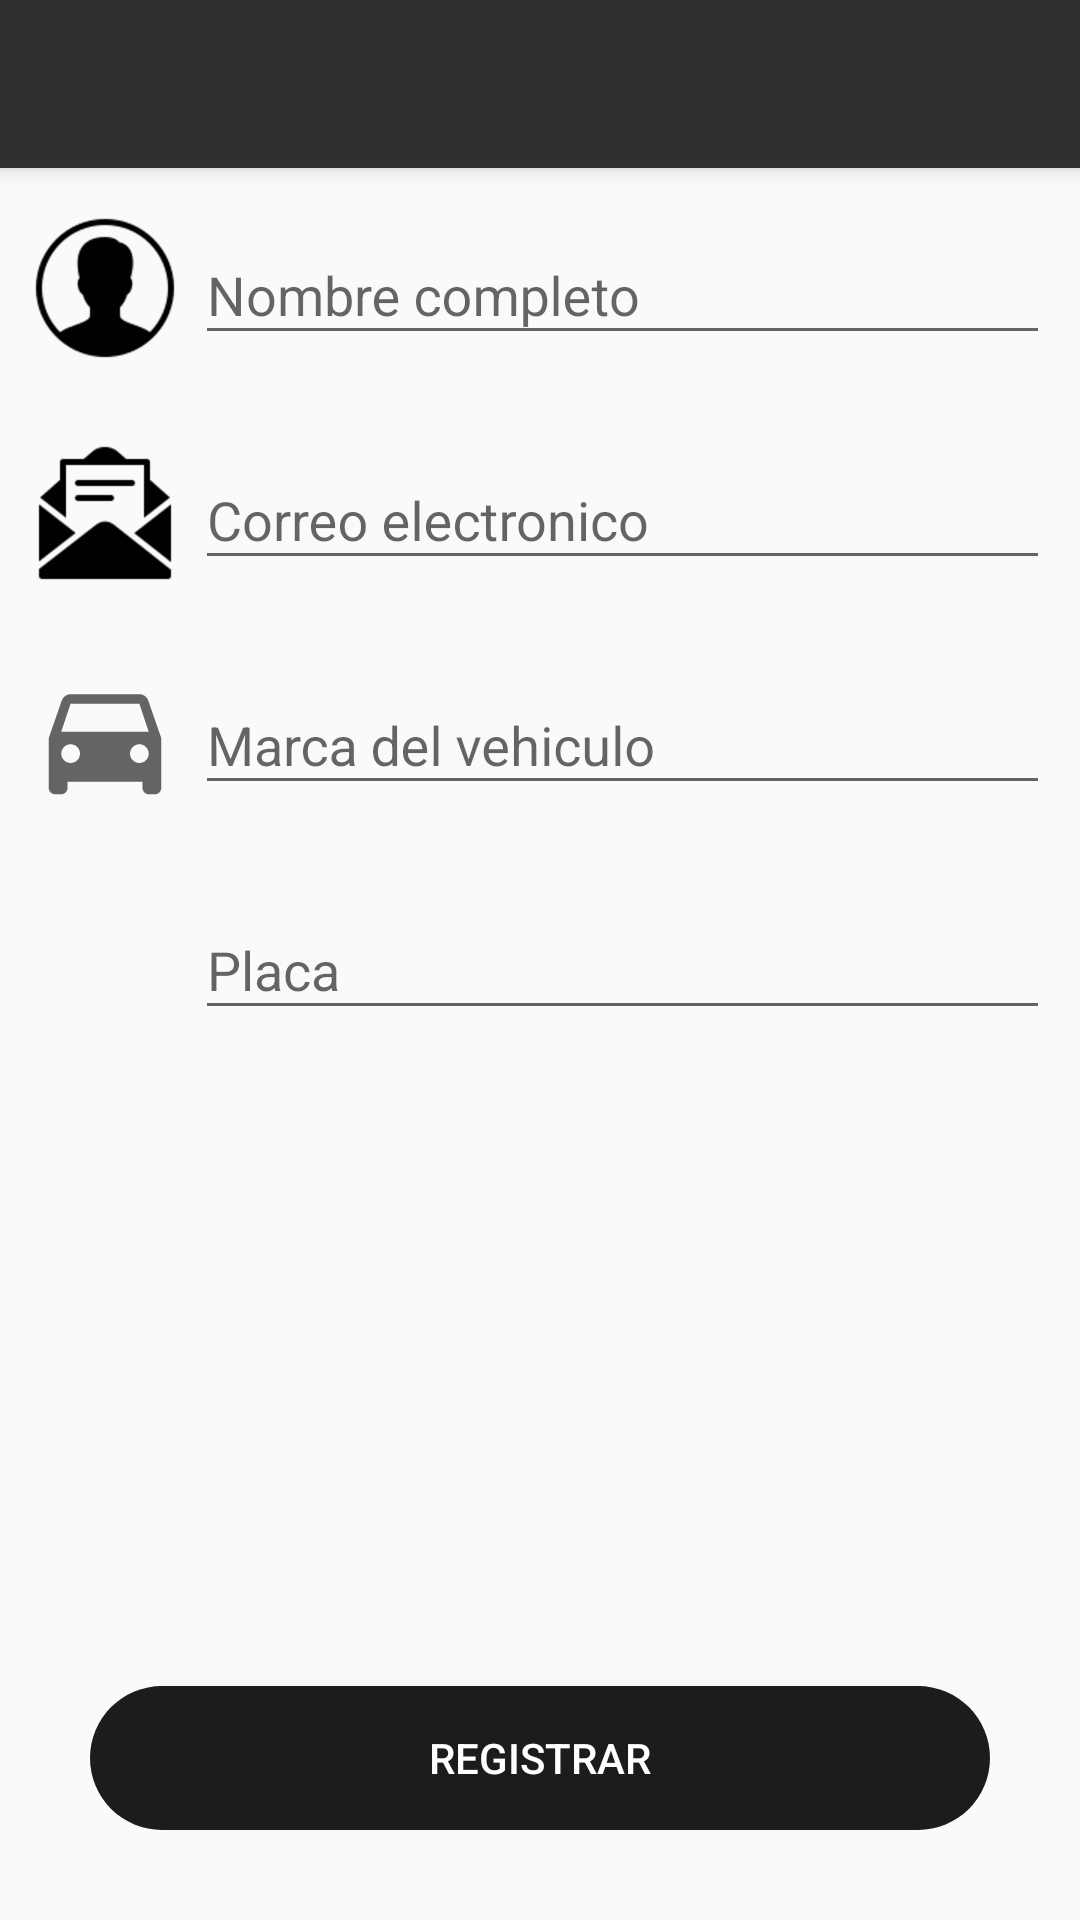

Icons on this 1080×1920 Android screen, each with the point to tap as (x=x, y=y):
car: (x=105, y=744)
email: (x=105, y=513)
user: (x=105, y=288)
